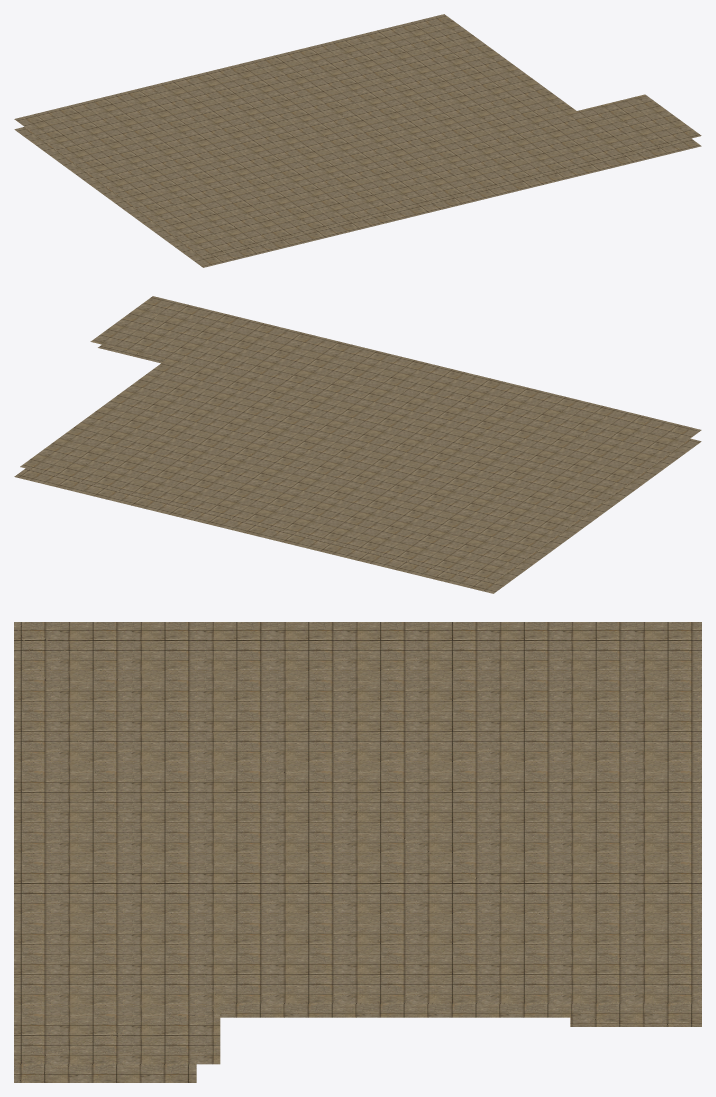
File: buildinga_id_2_tilesplaina_d_0_lev1.glb
The picture shows the model from 3 angles, top to bottom: view 1: azimuth 30°, elevation 25°; view 2: azimuth 150°, elevation 25°; view 3: azimuth 270°, elevation 25°; orthographic projection. The views are drawn at different scales.
Parts seen in each view (by area): view 1: buildinga_id_2_tilesplaina_d_0_lev1; view 2: buildinga_id_2_tilesplaina_d_0_lev1; view 3: buildinga_id_2_tilesplaina_d_0_lev1.
Boxes of the visible parts, box(x1,y1,x2,y2) form: buildinga_id_2_tilesplaina_d_0_lev1: box(14, 14, 701, 267); buildinga_id_2_tilesplaina_d_0_lev1: box(14, 296, 701, 593); buildinga_id_2_tilesplaina_d_0_lev1: box(14, 622, 701, 1082).
Size of the model in its own units: 9.74 by 0.1925 by 6.4.
1 material, 1 textured.
